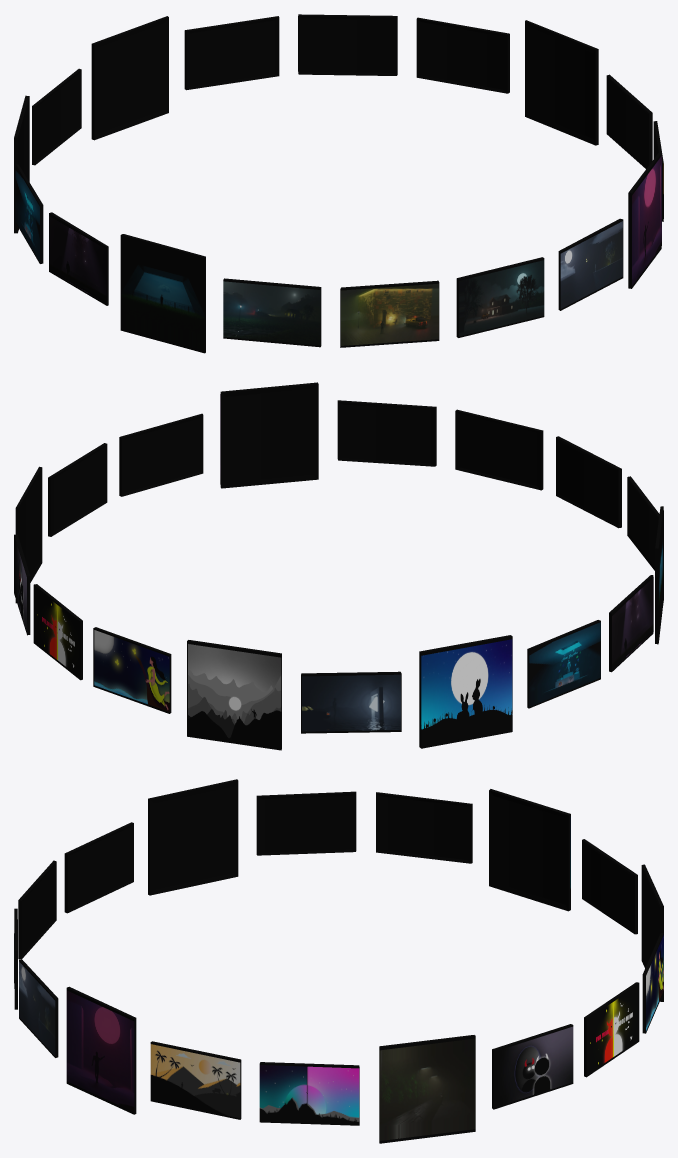
The picture shows the model from 3 angles, top to bottom: view 1: azimuth 30°, elevation 25°; view 2: azimuth 150°, elevation 25°; view 3: azimuth 270°, elevation 25°; orthographic projection.
Parts seen in each view (by area): view 1: Cube.002, Cube.011, Cube.014, Cube.013, Cube.015, Cube.030, Cube.010, Cube.017, Cube.019; view 2: Cube.002, Cube.025, Cube.009, videoboard, Cube.024, Cube.019, Cube.005, Cube.010, Cube.004, Cube.011; view 3: Cube.002, Cube.003, Cube.017, Cube.018, Cube.004, Cube.005, Cube.030, Cube.024.
Boxes of the visible parts, x1=… form: Cube.002: x1=14, y1=14, x2=663, y2=353; Cube.011: x1=121, y1=238, x2=204, y2=350; Cube.014: x1=341, y1=283, x2=438, y2=345; Cube.013: x1=223, y1=281, x2=320, y2=345; Cube.015: x1=459, y1=260, x2=544, y2=336; Cube.030: x1=560, y1=221, x2=622, y2=308; Cube.010: x1=49, y1=214, x2=106, y2=303; Cube.017: x1=632, y1=156, x2=661, y2=285; Cube.019: x1=15, y1=166, x2=39, y2=261; Cube.002: x1=14, y1=382, x2=663, y2=750; Cube.025: x1=188, y1=644, x2=281, y2=747; Cube.009: x1=421, y1=639, x2=512, y2=745; videoboard: x1=302, y1=674, x2=400, y2=731; Cube.024: x1=94, y1=630, x2=169, y2=711; Cube.019: x1=529, y1=622, x2=600, y2=706; Cube.005: x1=33, y1=586, x2=80, y2=677; Cube.010: x1=612, y1=577, x2=653, y2=669; Cube.004: x1=14, y1=536, x2=26, y2=631; Cube.011: x1=658, y1=510, x2=663, y2=636; Cube.002: x1=14, y1=779, x2=663, y2=1143; Cube.003: x1=379, y1=1038, x2=475, y2=1140; Cube.017: x1=66, y1=990, x2=134, y2=1111; Cube.018: x1=150, y1=1044, x2=240, y2=1117; Cube.004: x1=493, y1=1026, x2=573, y2=1107; Cube.005: x1=586, y1=984, x2=639, y2=1074; Cube.030: x1=19, y1=961, x2=55, y2=1055; Cube.024: x1=646, y1=935, x2=663, y2=1030.
Size of the model in its own units: 52.2 by 8.49 by 52.07.
18 materials, 17 textured.
